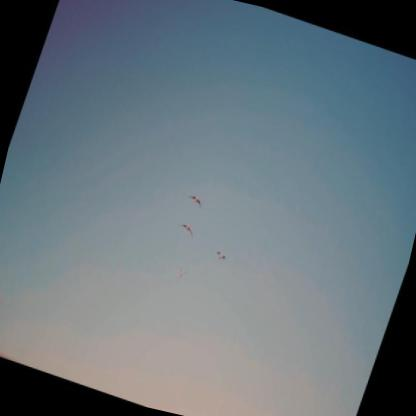bird: (176, 220, 198, 242), (184, 192, 207, 212), (174, 265, 192, 281), (213, 249, 229, 265)
